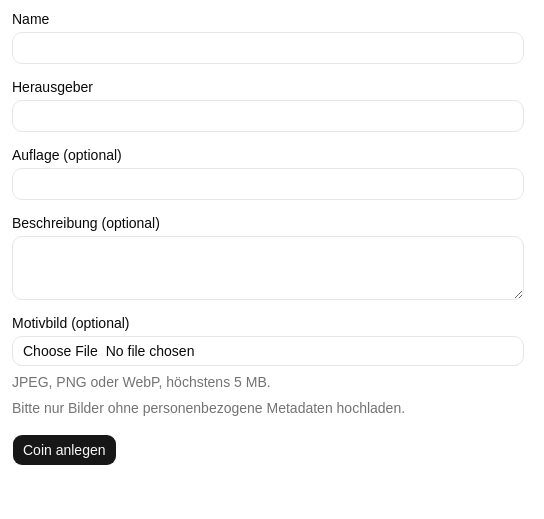
AK-33: 403 mit code › zeigt bei benutzer_deaktiviert „Ihr Benutzerkonto ist deaktiviert.“ als Alarm
This screenshot has width=544, height=519.
Type "Coin Alpha" into the field labelled "Name" at (268, 48), box [12,32,524,64]
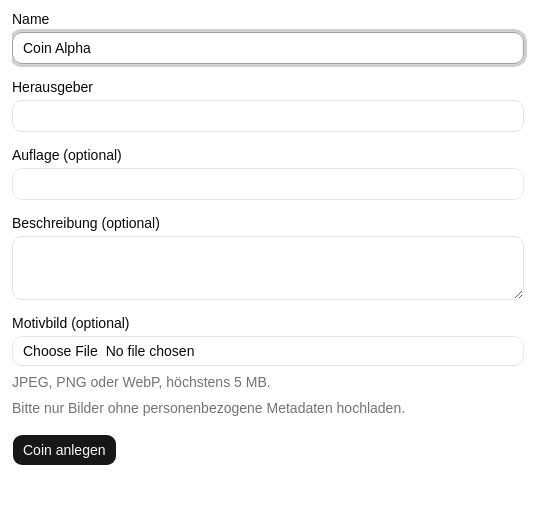
Type "Herausgeber Beta" into the field labelled "Herausgeber" at (268, 116), box [12,100,524,132]
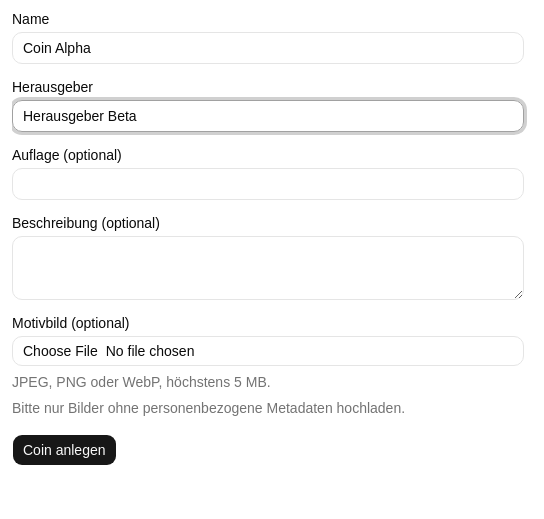
Click the button "Coin anlegen" at (64, 450), box [12,434,116,466]
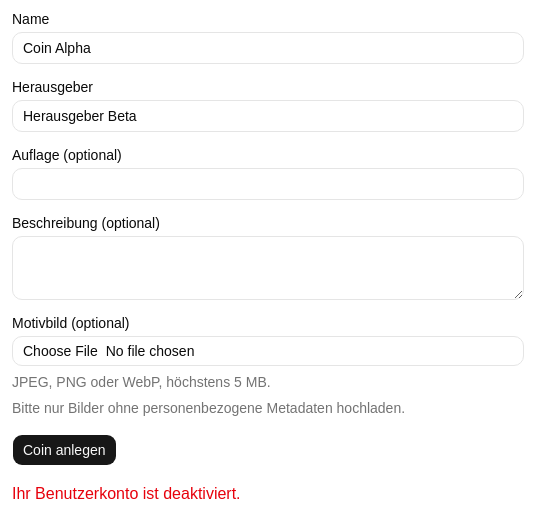
expect the message reads "Ihr Benutzerkonto ist deaktiviert.": met, box [12,485,241,502]
